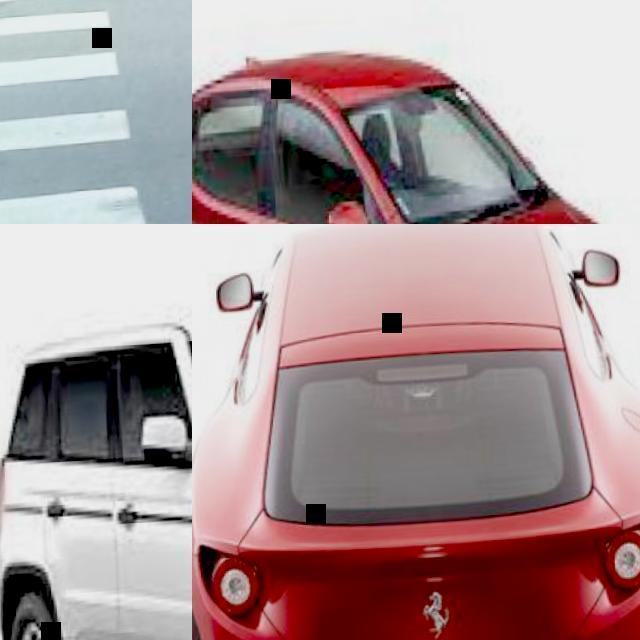car: (0, 0, 631, 636)
